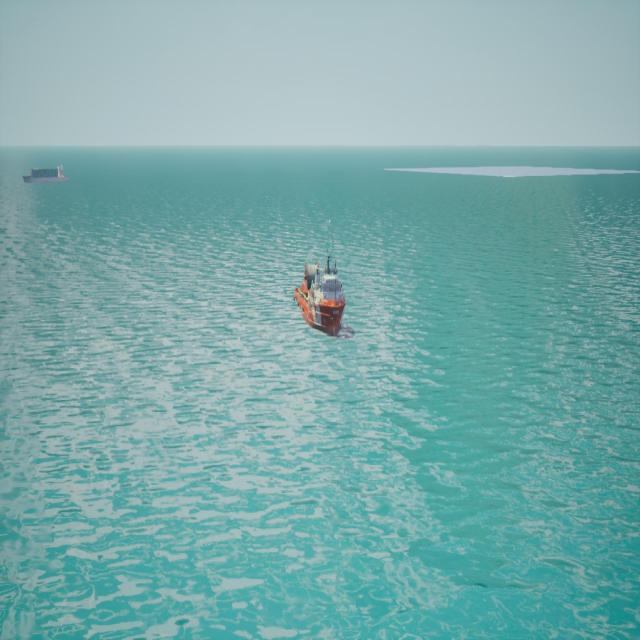tug boat: (295, 259, 348, 339)
